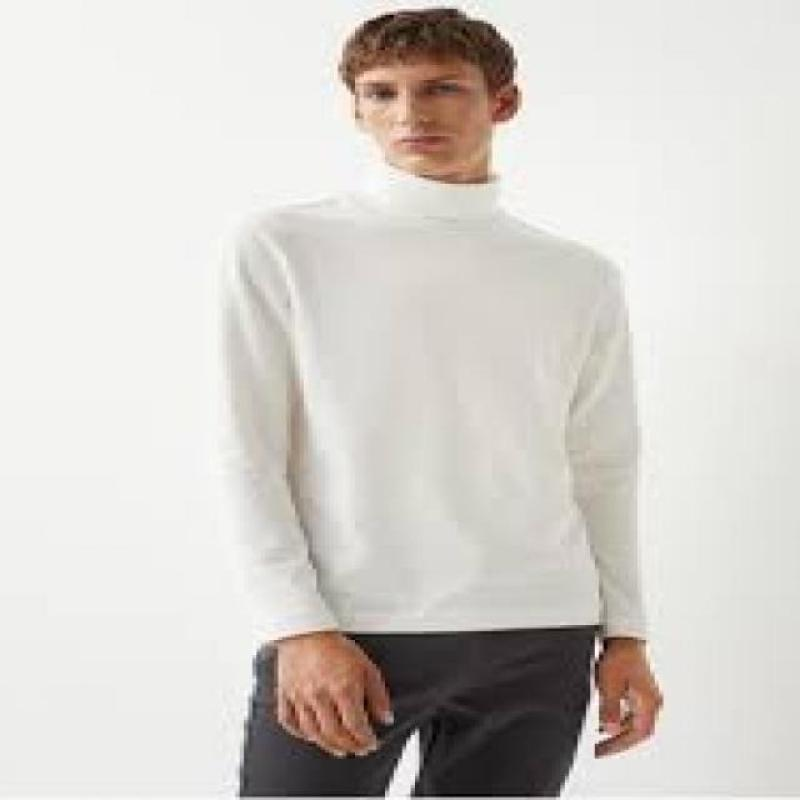sweater: (208, 167, 654, 640)
trousers: (237, 623, 602, 800)
